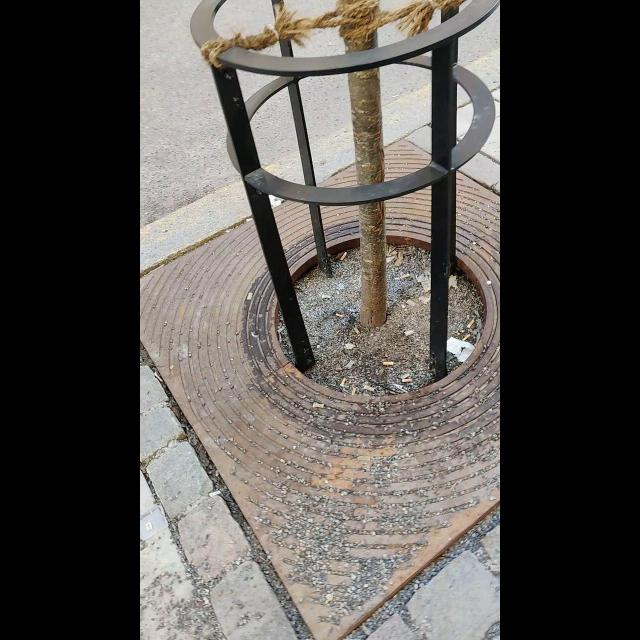cigarette: (151, 370, 164, 382), (400, 376, 413, 383), (340, 252, 348, 262), (336, 312, 346, 320), (467, 320, 475, 330), (340, 378, 348, 387), (364, 384, 376, 390), (245, 292, 254, 300), (210, 490, 220, 497), (312, 403, 325, 408), (383, 361, 395, 366), (463, 335, 470, 343), (401, 274, 410, 280), (351, 386, 356, 394), (356, 327, 360, 336)
